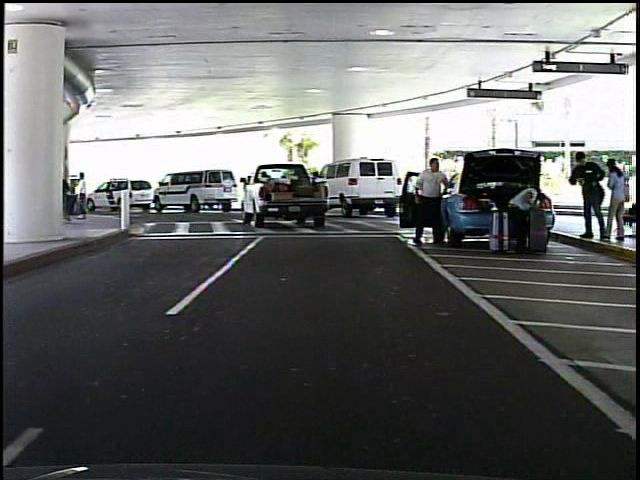person: (412, 155, 455, 248), (568, 148, 605, 245), (504, 174, 545, 254), (600, 156, 631, 248)
